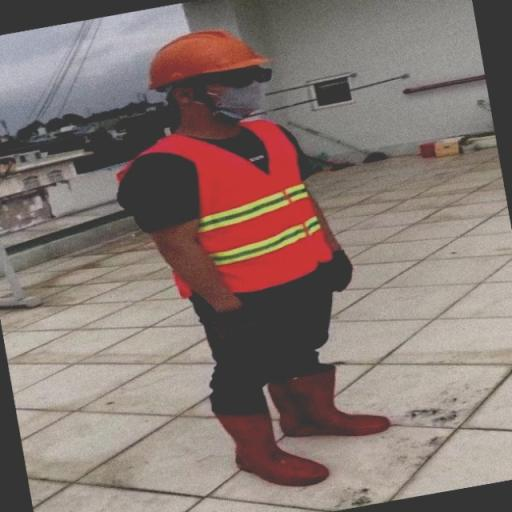Person: (115, 33, 421, 491)
boots: (266, 362, 410, 444), (198, 406, 327, 496)
gloves: (207, 304, 260, 346), (320, 246, 358, 298)
goggles: (178, 68, 277, 86)
helmet: (133, 33, 290, 87)
vest: (116, 118, 359, 314)
